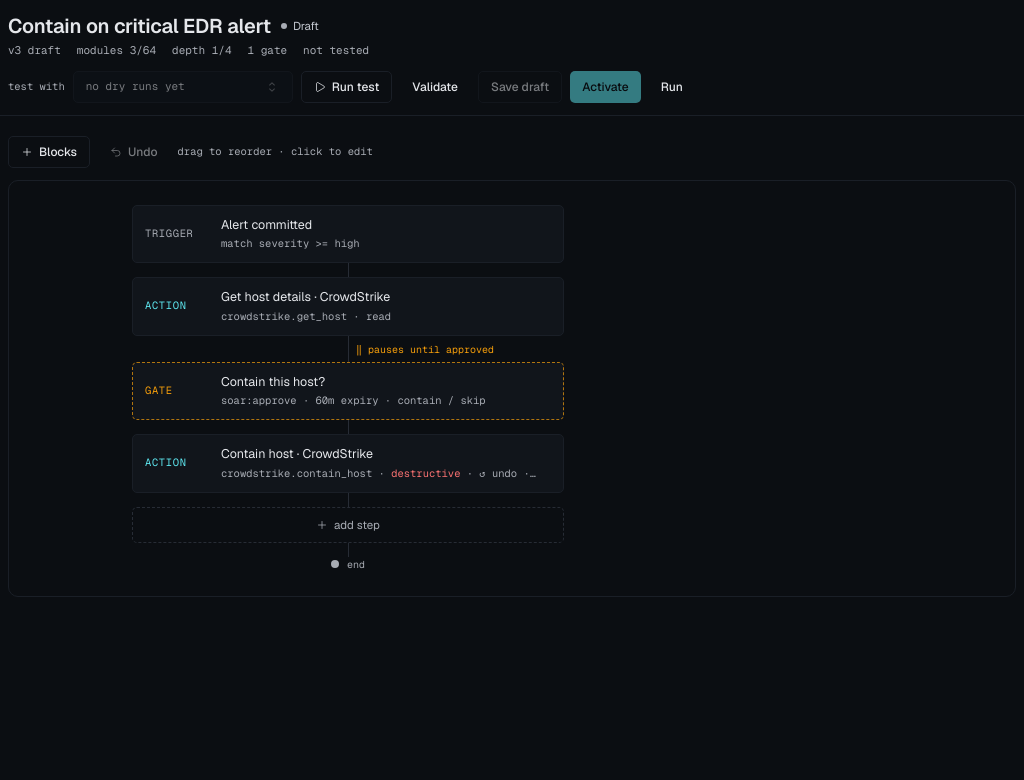
Test: Flow editor › validate: a server error naming a step lands on that step
The image size is (1024, 780).
Expected: the element with test id "flow-canvas" is shown, [8,180,1016,596]
Expected: the text "Get host details · CrowdStrike" is shown, [221,288,390,305]
Click the button "Validate".
click(435, 86)  # box [400,70,470,102]
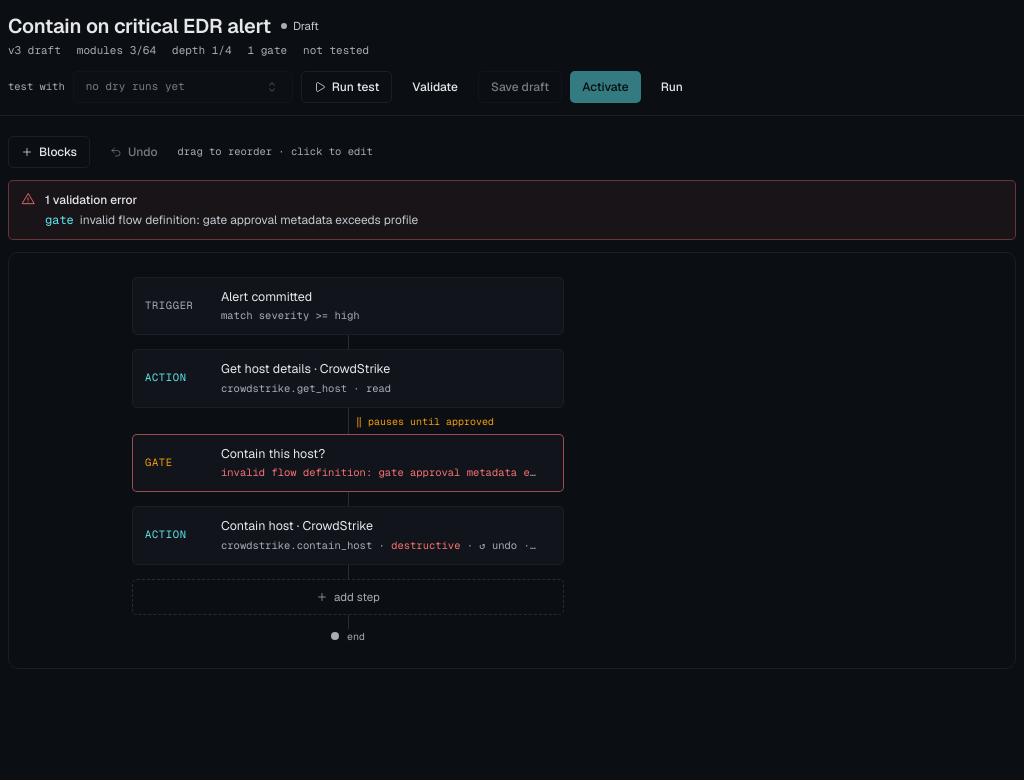
Expected: the button "Activate" is disabled, [570,70,641,102]
Expected: the button "gate" is shown, [45,210,74,228]
Expected: the text with test id "step-error" shows "approval metadata exceeds profile", [221,465,539,479]
